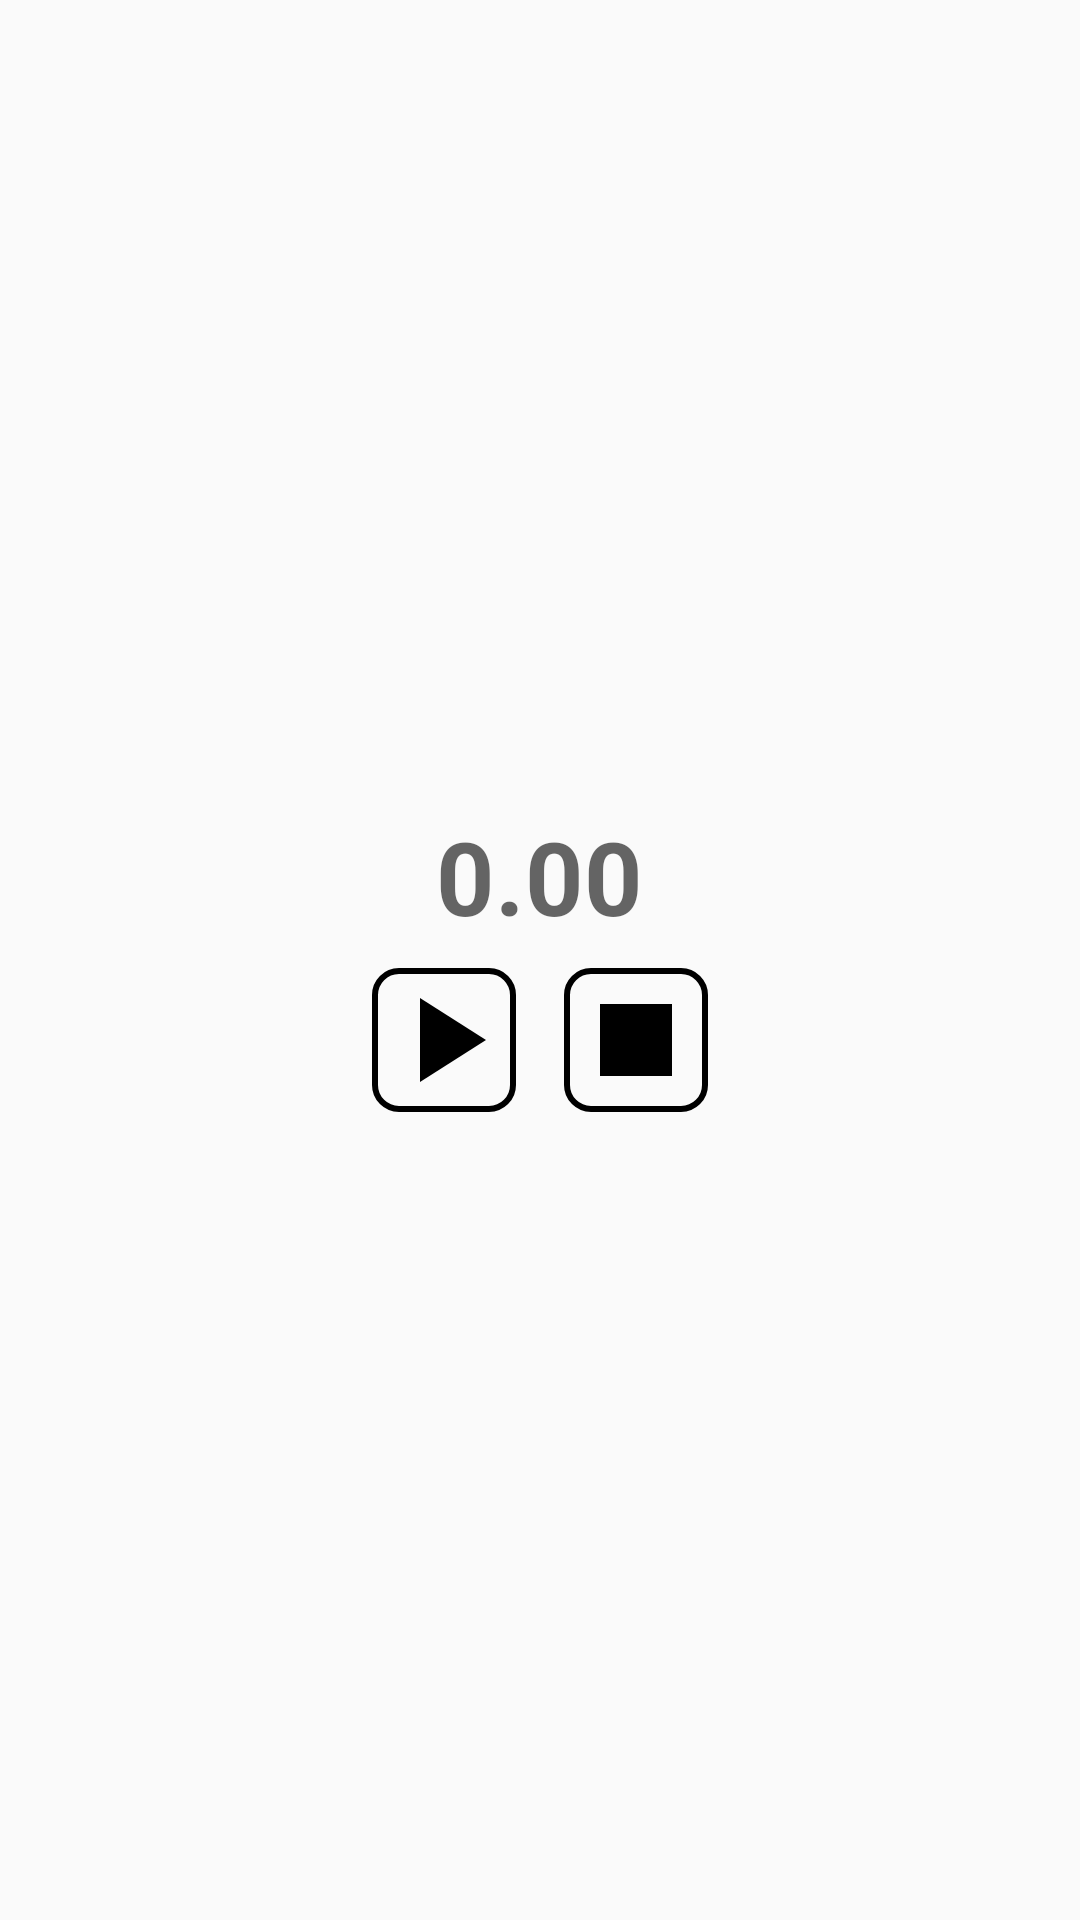

Where icons sit on this 1080×1920 app screen, as (x1, y1, x2, y2):
play: (372, 968, 516, 1112)
stop: (564, 968, 708, 1112)
